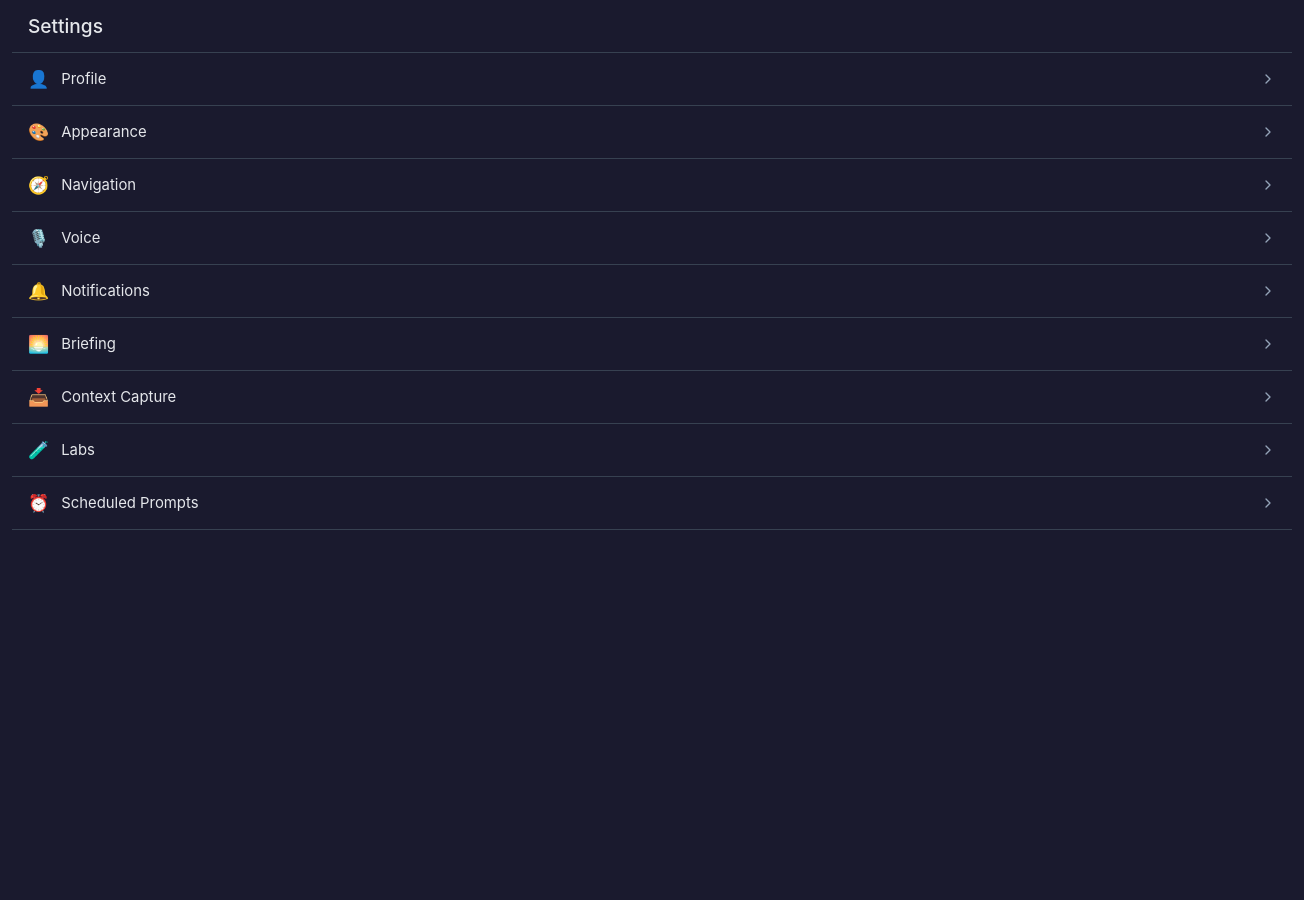
Scenario: SettingsPage — mobile master-detail › shows the section list, drills into a pane, and goes back to the list
Expected: the heading "Settings" is shown, [28, 12, 103, 40]
Expected: the button "🎨 Appearance" is shown, [12, 106, 1292, 159]
Note: Drill into Profile → its pane + back-to-list control.
Click the button "👤 Profile" at (84, 79), box [12, 53, 1292, 106]
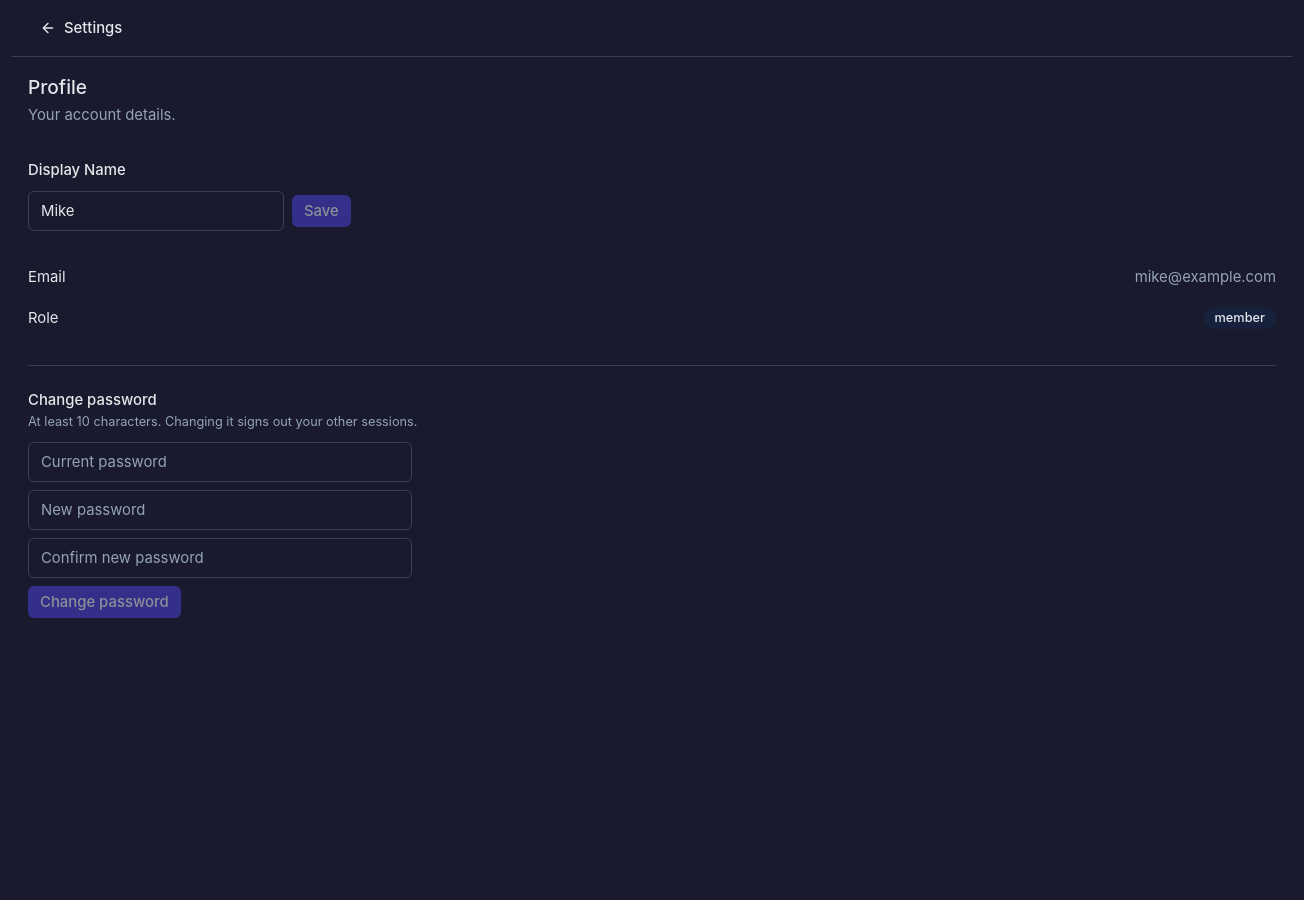
Expected: the heading "Profile" is shown, [28, 75, 87, 99]
Note: Back returns to the list.
Click the button with aria-label "Back to settings list" at (81, 28), box [28, 12, 134, 44]
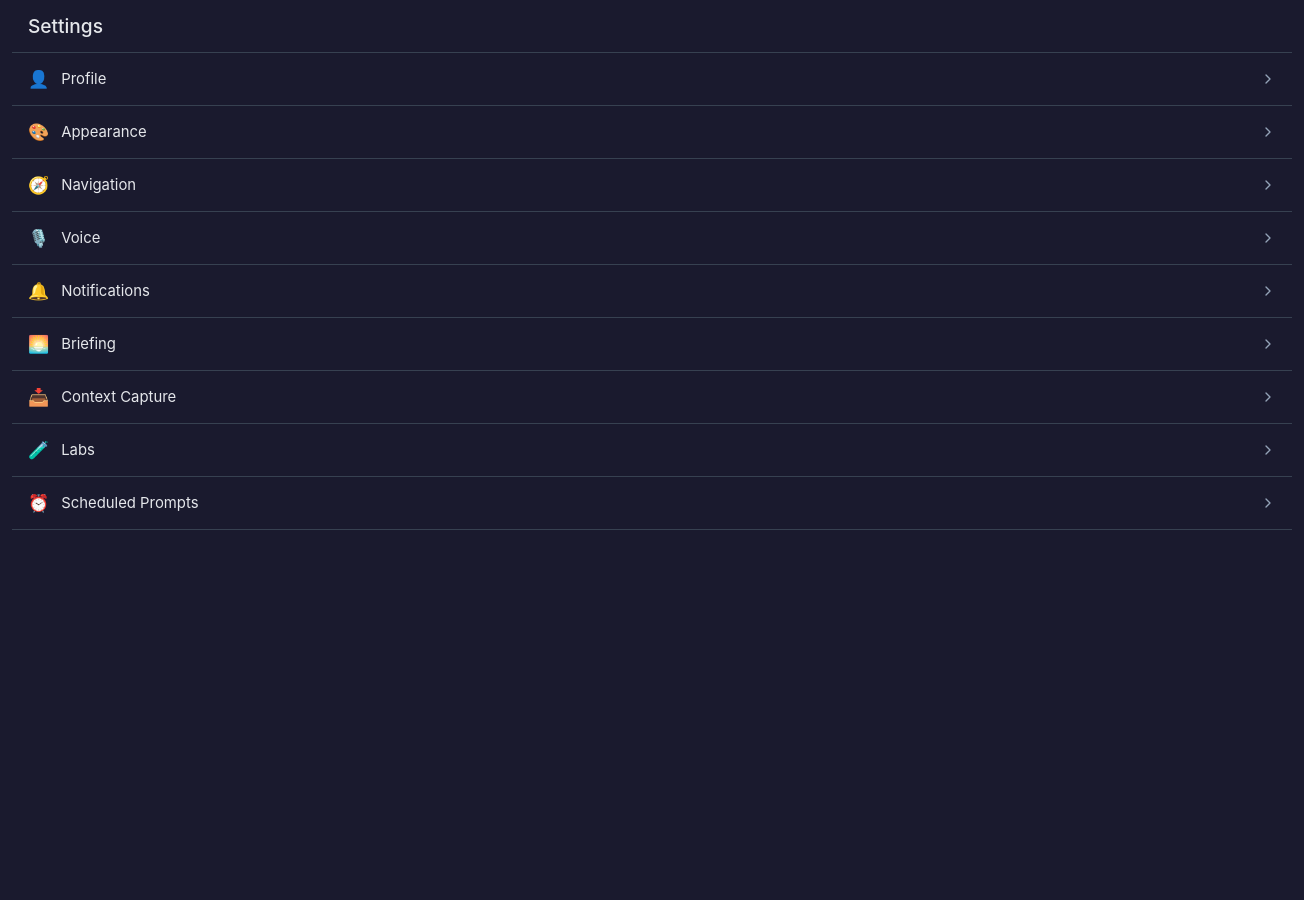
Expected: the button "🎨 Appearance" is shown, [12, 106, 1292, 159]
